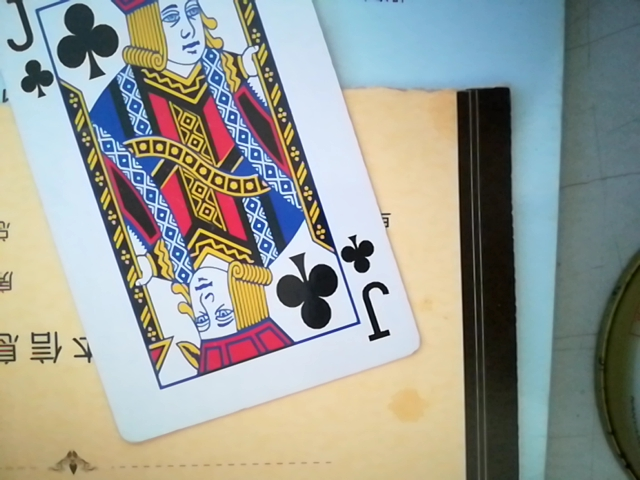mh j: (6, 6, 436, 447)
